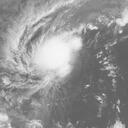cyclone: (20, 21, 93, 87)
